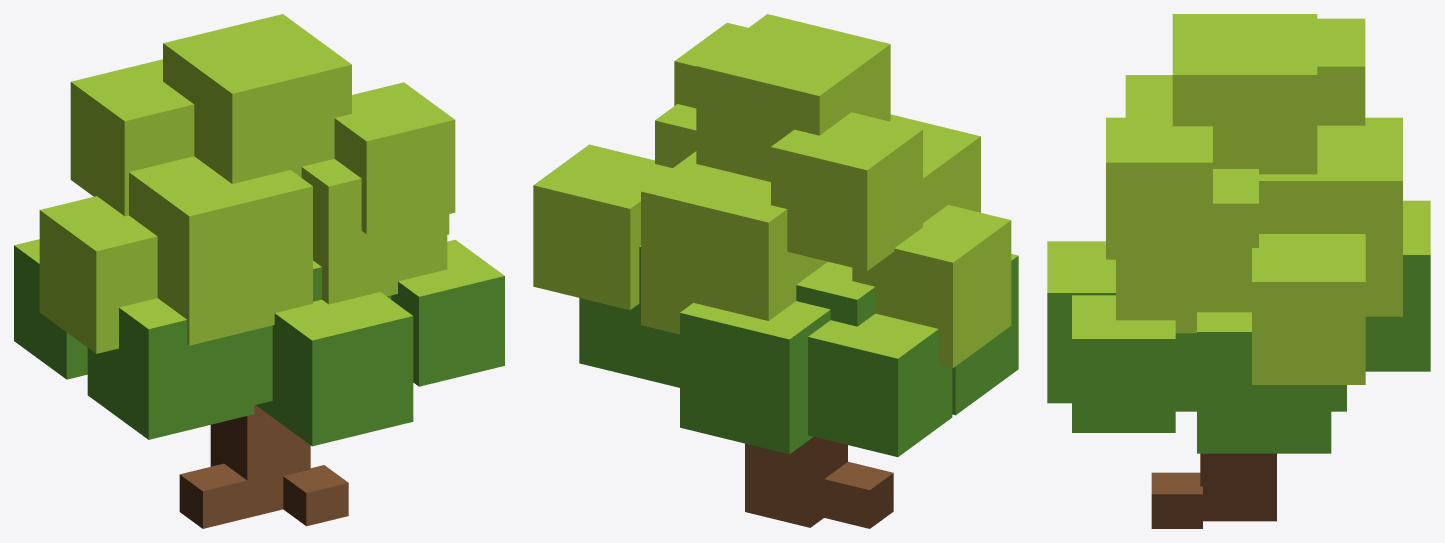
The model's file is Lobby_LobbyTree.glb.
3 views of the same model, side by side, from view 1: azimuth 30°, elevation 25°; view 2: azimuth 150°, elevation 25°; view 3: azimuth 270°, elevation 25° (orthographic). The views are drawn at different scales.
Visible parts, largest first — view 1: LobbyTree_leafLime, LobbyTree_leafMid, LobbyTree_bark, LobbyTree_barkDark; view 2: LobbyTree_leafLime, LobbyTree_leafMid, LobbyTree_bark, LobbyTree_barkDark; view 3: LobbyTree_leafLime, LobbyTree_leafMid, LobbyTree_barkDark, LobbyTree_bark.
Part boxes in pixels (x1,y1,x2,y2): LobbyTree_leafLime: (14, 14, 504, 353); LobbyTree_leafMid: (14, 245, 504, 446); LobbyTree_bark: (180, 405, 348, 528); LobbyTree_barkDark: (179, 416, 306, 528); LobbyTree_leafLime: (533, 14, 1018, 368); LobbyTree_leafMid: (579, 247, 1018, 456); LobbyTree_bark: (745, 439, 893, 528); LobbyTree_barkDark: (810, 437, 893, 528); LobbyTree_leafLime: (1047, 14, 1430, 384); LobbyTree_leafMid: (1047, 255, 1430, 453); LobbyTree_barkDark: (1151, 453, 1276, 528); LobbyTree_bark: (1151, 472, 1202, 494).
Bounding box in the file's own units: 3.61 × 3.98 × 3.
